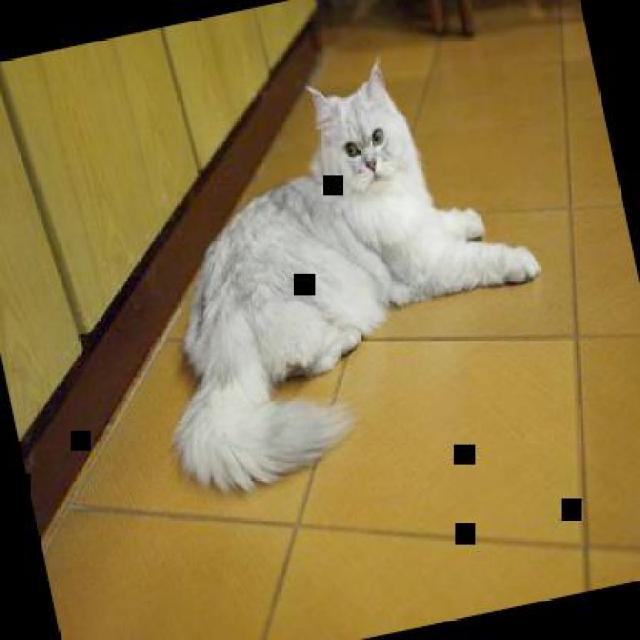cat: (106, 28, 572, 498)
